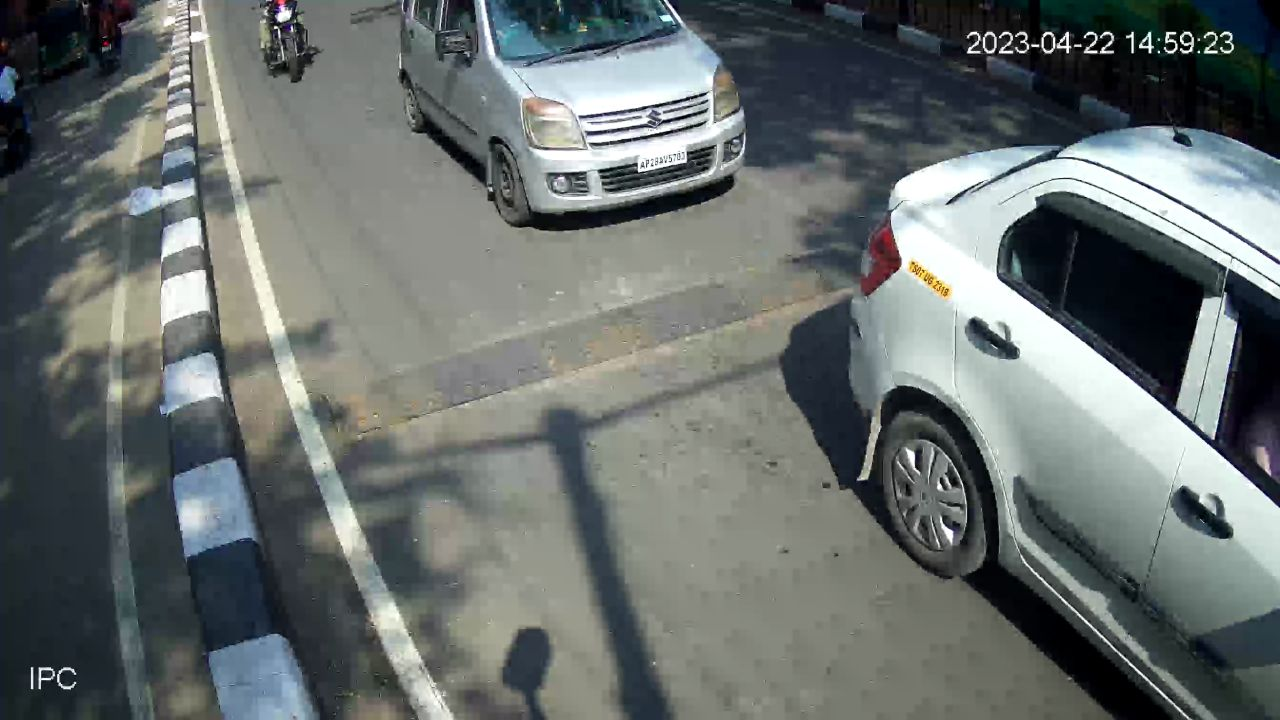license_plate: (632, 141, 691, 179)
